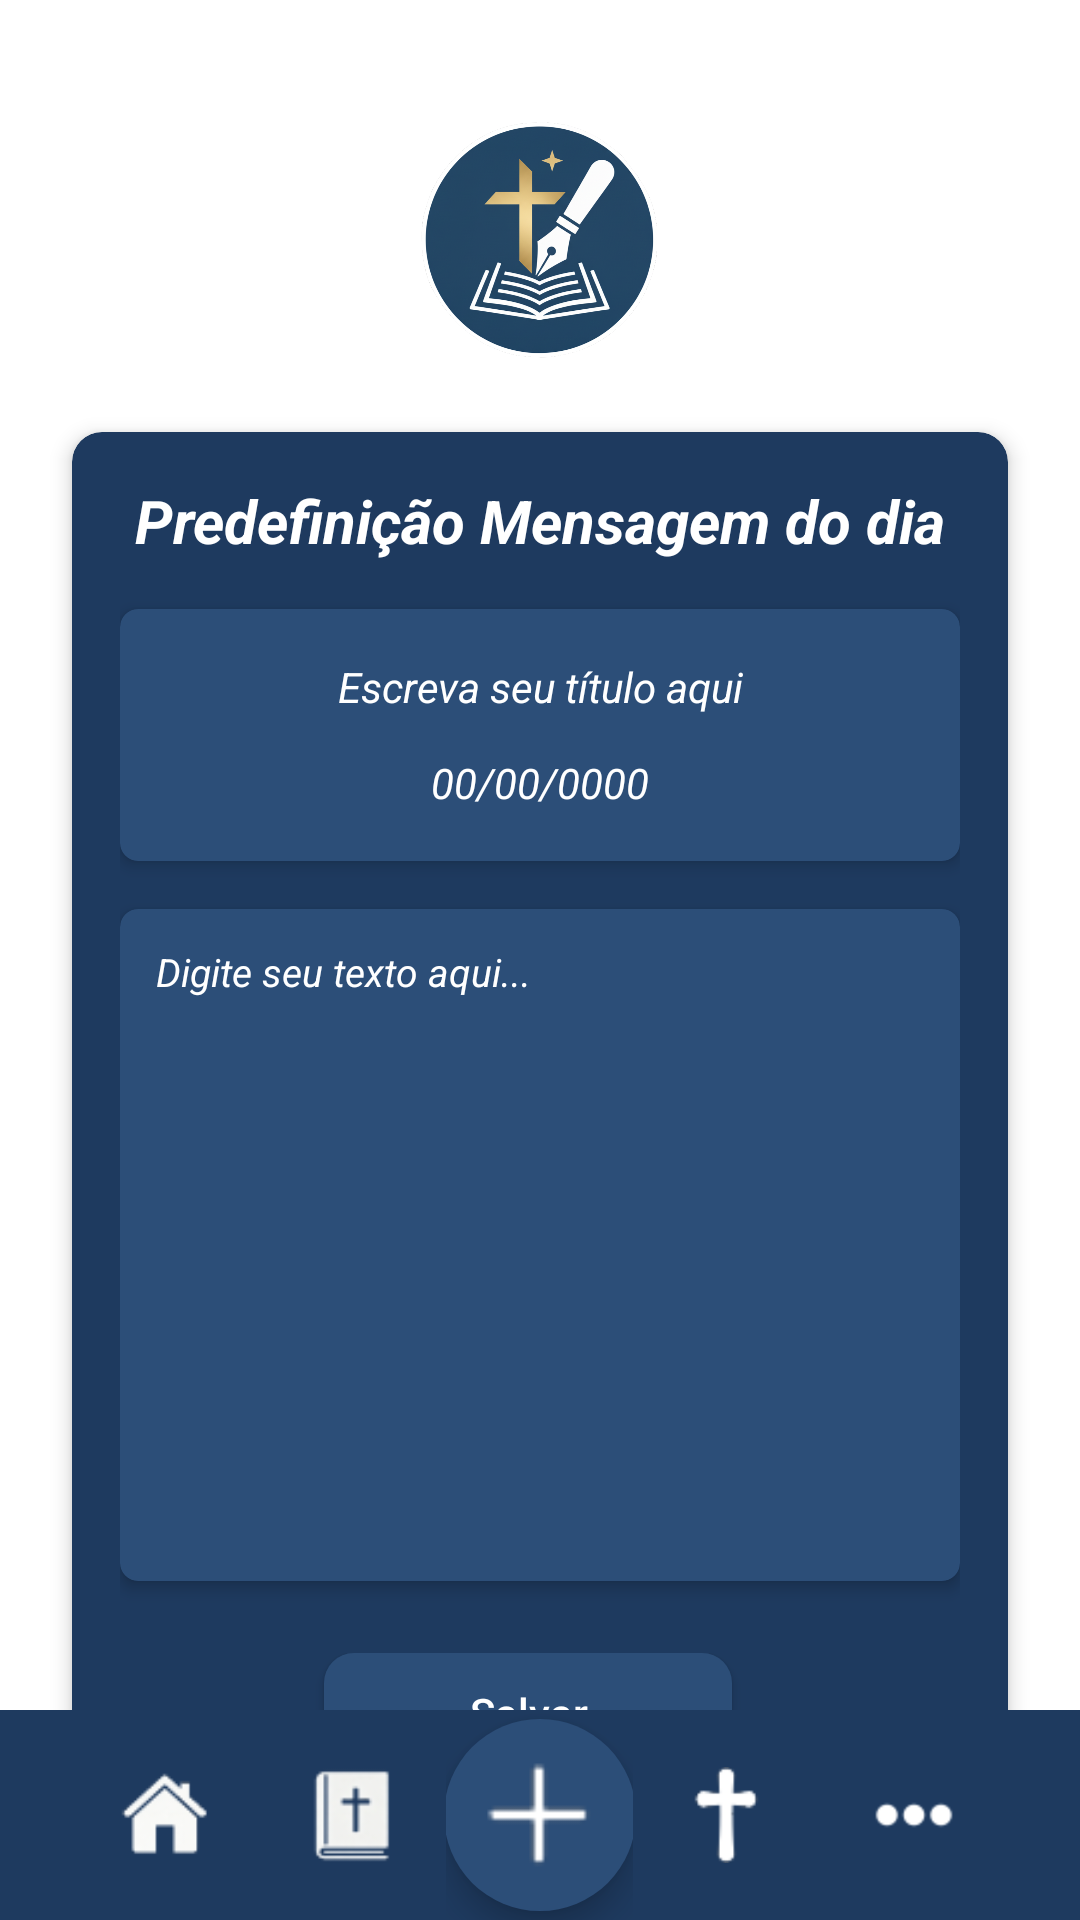

Named icons in this screenshot (1080x1920) and their centers, point (x, y):
Bíblia: point (352, 1816)
Cruz: point (726, 1815)
Início: point (164, 1814)
Mais: point (914, 1815)
